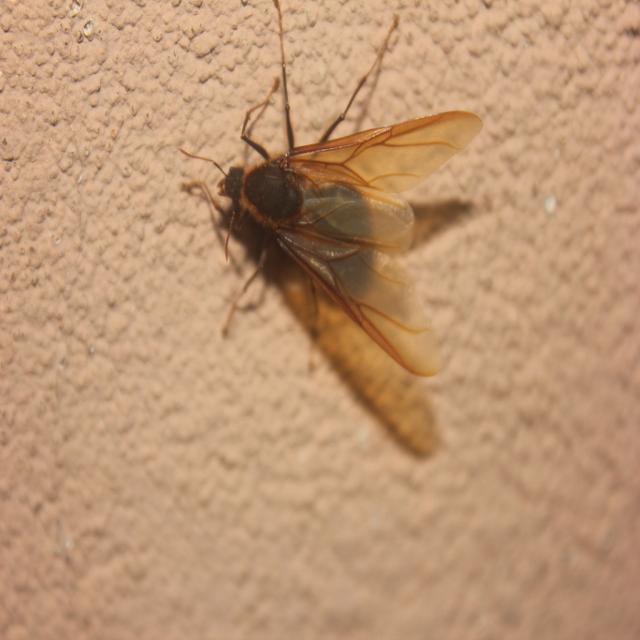Alive-Male-Alate: (178, 0, 483, 378)
